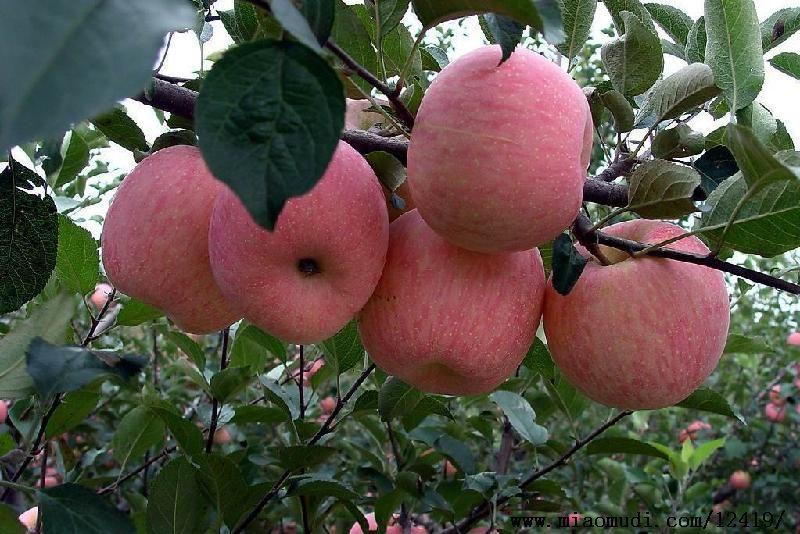apple: (408, 38, 592, 253), (208, 134, 390, 342), (542, 217, 726, 408), (358, 210, 545, 396), (101, 145, 247, 334)
